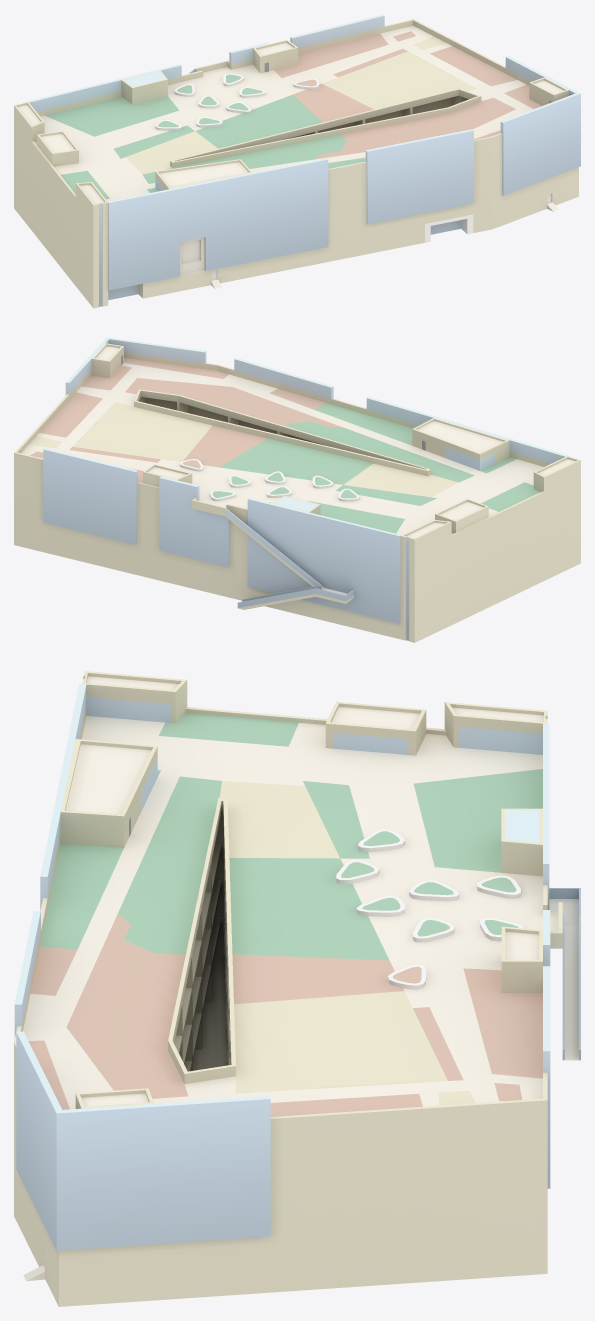
3 views of the same model, one above another, from view 1: azimuth 30°, elevation 25°; view 2: azimuth 150°, elevation 25°; view 3: azimuth 270°, elevation 25° (orthographic). The views are drawn at different scales.
Parts seen in each view (by area): view 1: 70030076201574217; view 2: 70030076201574217; view 3: 70030076201574217.
Part boxes in pixels (x1=…): 70030076201574217: x1=14, y1=14, x2=580, y2=308; 70030076201574217: x1=14, y1=337, x2=580, y2=642; 70030076201574217: x1=14, y1=671, x2=580, y2=1306.
Size of the model in its own units: 112 by 22.97 by 60.59.
Materials: 1 (1 with a texture image).
